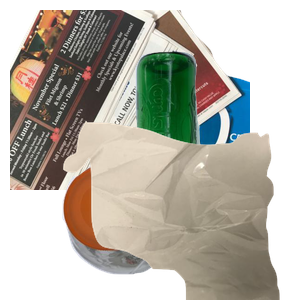glass: (129, 49, 300, 229)
paper: (10, 10, 250, 190)
plastic: (60, 152, 237, 300)
trash: (61, 120, 300, 300)
